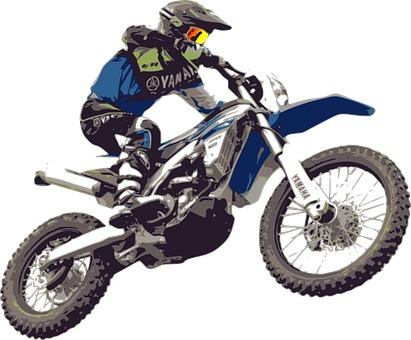motorbike: (1, 72, 406, 330)
person: (66, 2, 230, 227)
